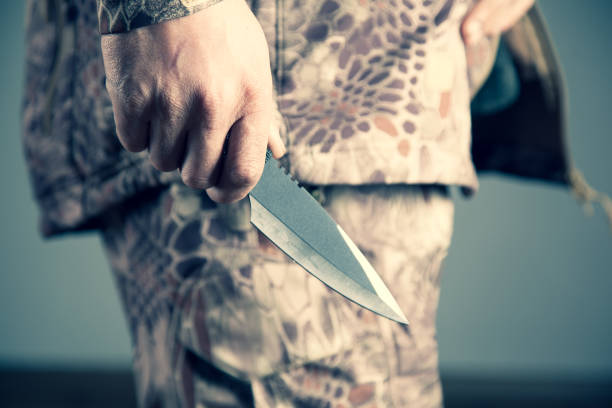knife: (244, 146, 411, 327)
